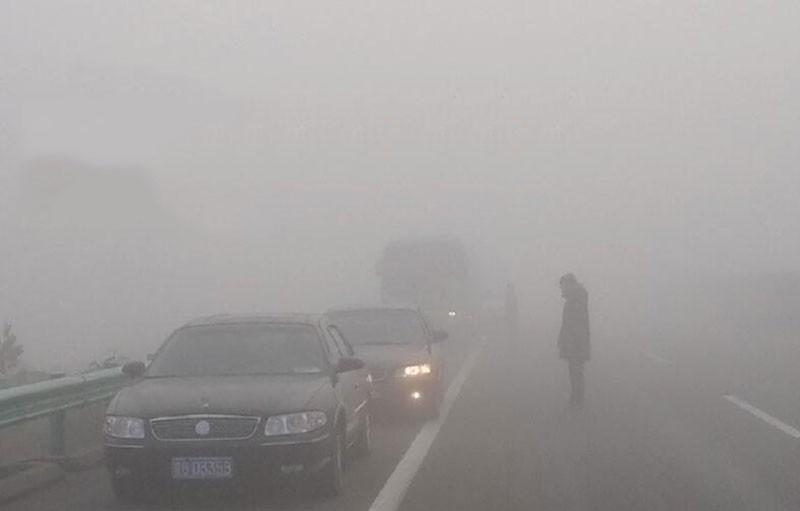bus: (377, 231, 478, 343)
car: (94, 314, 373, 500), (326, 308, 440, 429), (478, 287, 506, 329)
person: (557, 269, 592, 412), (498, 269, 520, 349)
